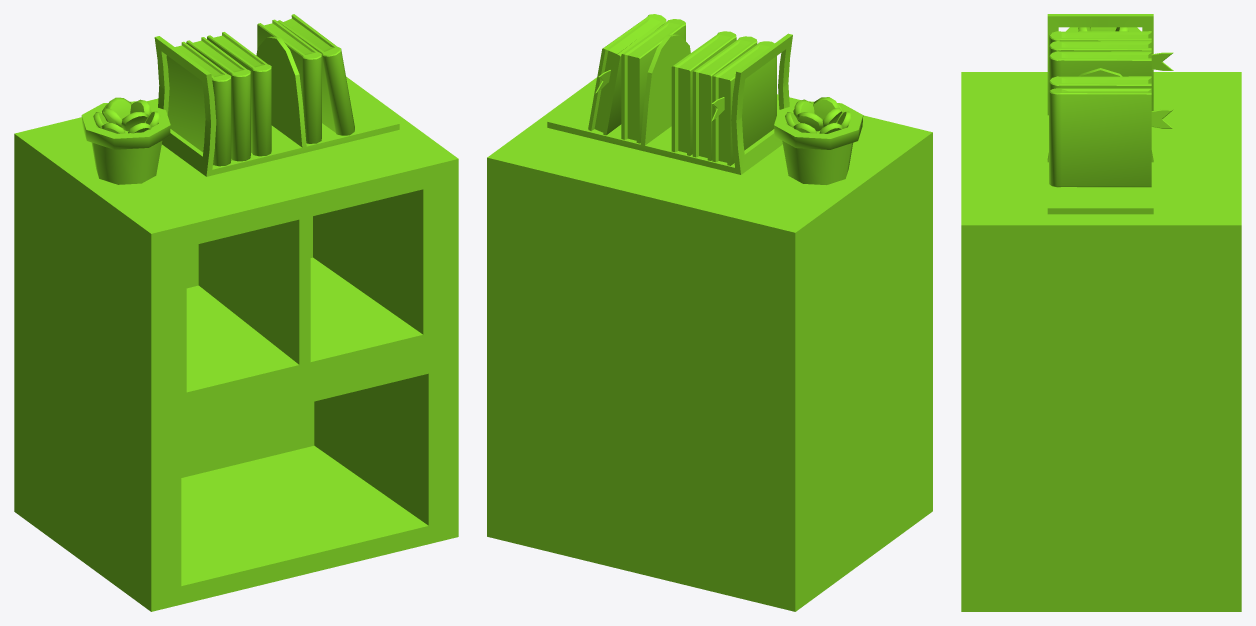
The model's file is SM_Shelf.fbx.
3 views of the same model, side by side, from view 1: azimuth 30°, elevation 25°; view 2: azimuth 150°, elevation 25°; view 3: azimuth 270°, elevation 25° (orthographic). The views are drawn at different scales.
Visible parts, largest first — view 1: SM_Shelf; view 2: SM_Shelf; view 3: SM_Shelf.
Part boxes in pixels (<box>): SM_Shelf: <box>14,14,458,611</box>; SM_Shelf: <box>487,14,932,611</box>; SM_Shelf: <box>961,14,1241,611</box>.
Bounding box in the file's own units: 110 × 164 × 84.51.
